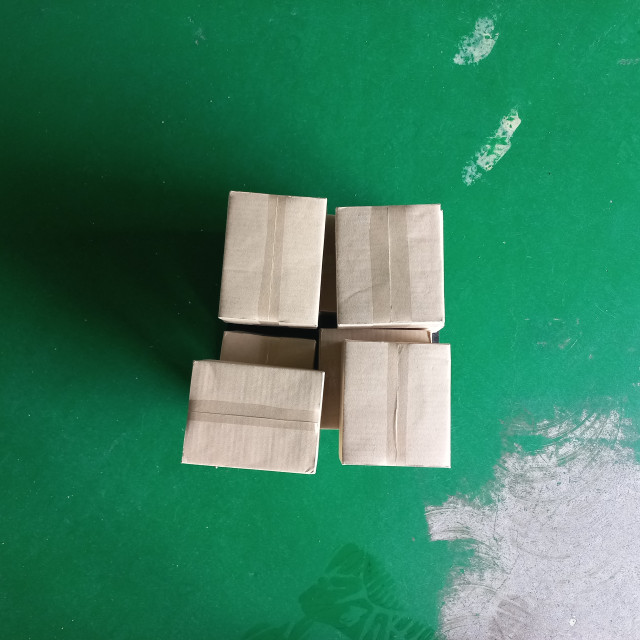box: (180, 356, 326, 478), (180, 356, 327, 477), (215, 189, 330, 331), (215, 189, 329, 330), (337, 332, 452, 471), (341, 338, 451, 469), (333, 201, 445, 329), (334, 202, 445, 327)
